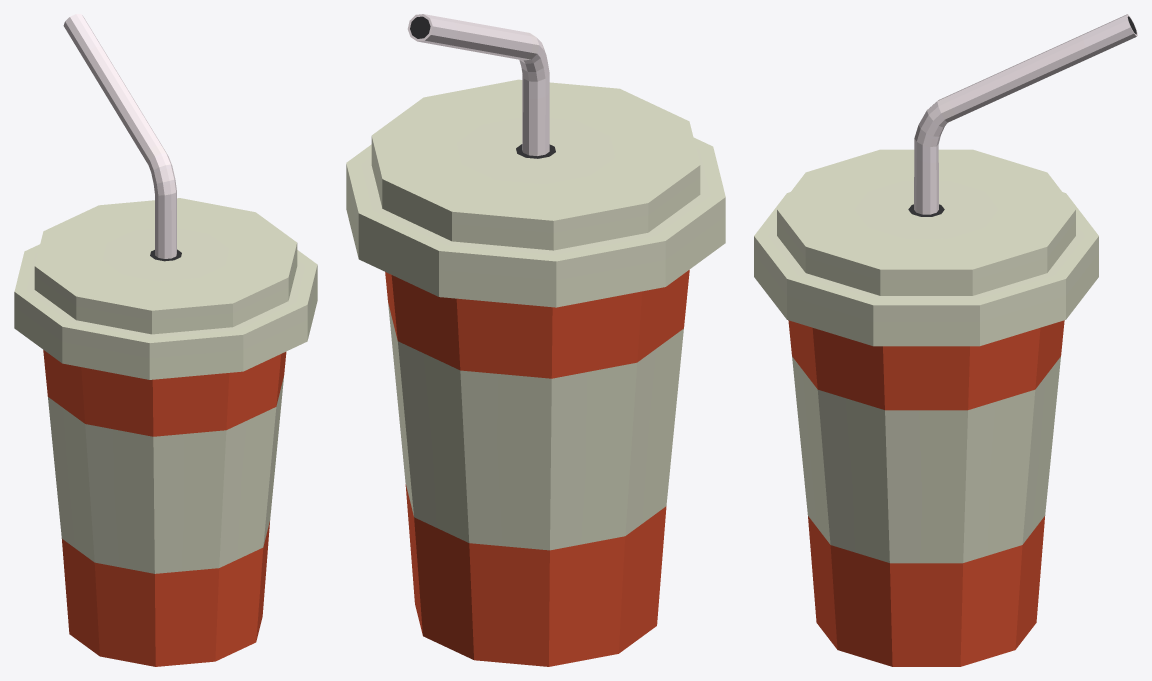
Rendered from quaternius-junk-food-soda.glb.
3 views of the same model, side by side, from view 1: azimuth 30°, elevation 25°; view 2: azimuth 150°, elevation 25°; view 3: azimuth 270°, elevation 25° (orthographic). The views are drawn at different scales.
Visible parts, largest first — view 1: Soda; view 2: Soda; view 3: Soda.
Boxes of the visible parts, bbox=[...] form: Soda: bbox=[14, 14, 317, 666]; Soda: bbox=[346, 14, 725, 666]; Soda: bbox=[754, 14, 1137, 666].
Size of the model in its own units: 1.21 by 2.47 by 1.41.
Materials: 1 (1 with a texture image).
